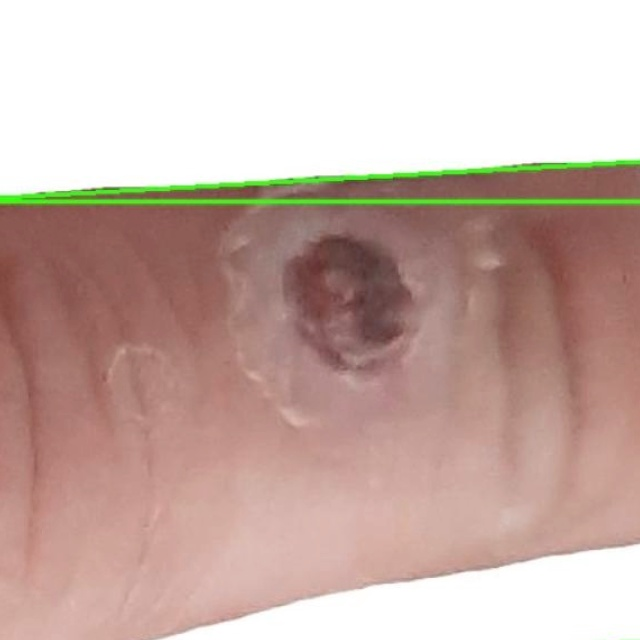Scabies: (0, 160, 639, 639), (0, 0, 639, 201)
